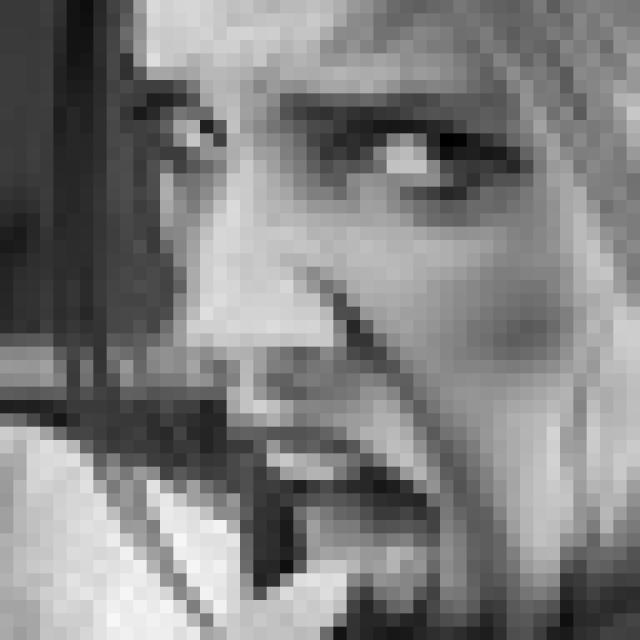disgust: (147, 72, 531, 632)
